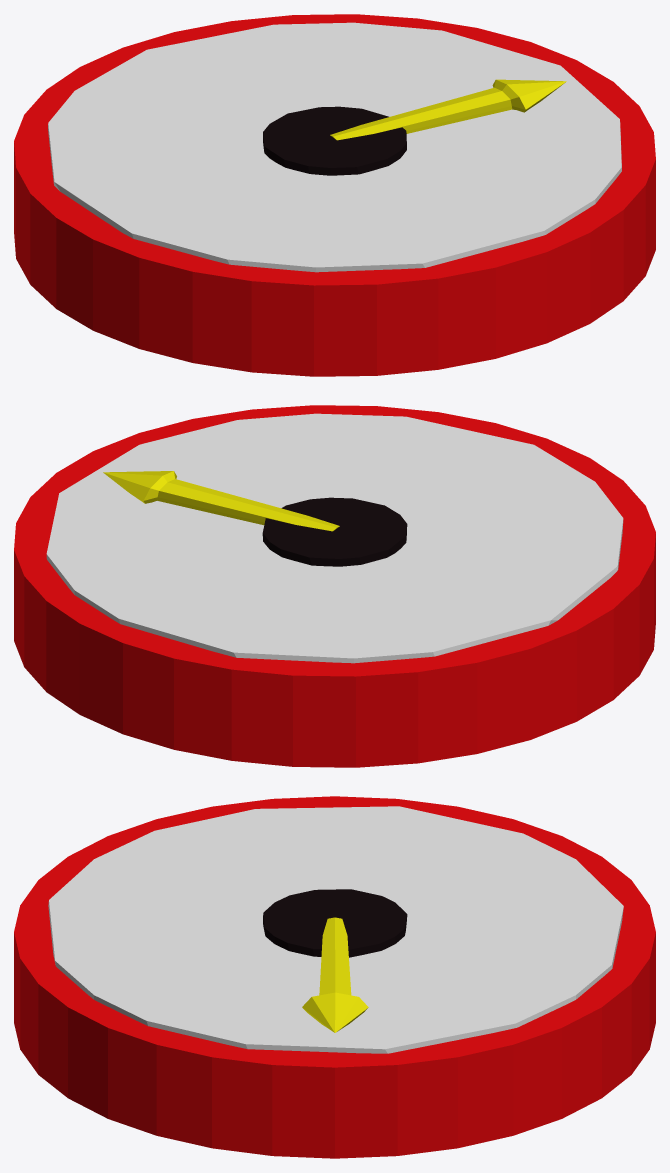
The model's file is spinner.fbx.
3 views of the same model, one above another, from view 1: azimuth 30°, elevation 25°; view 2: azimuth 150°, elevation 25°; view 3: azimuth 270°, elevation 25° (orthographic).
Parts seen in each view (by area): view 1: SpinnerBase.001, Base.001, SpinnerBase, Arrow; view 2: SpinnerBase.001, Base.001, SpinnerBase, Arrow; view 3: SpinnerBase.001, Base.001, SpinnerBase, Arrow.
Boxes of the visible parts, left/top/right/bottom form: SpinnerBase.001: left=48, top=22, right=621, bottom=272; Base.001: left=14, top=14, right=655, bottom=376; SpinnerBase: left=263, top=106, right=406, bottom=175; Arrow: left=330, top=79, right=566, bottom=140; SpinnerBase.001: left=46, top=413, right=623, bottom=663; Base.001: left=14, top=405, right=655, bottom=767; SpinnerBase: left=262, top=497, right=407, bottom=566; Arrow: left=103, top=471, right=339, bottom=531; SpinnerBase.001: left=48, top=806, right=623, bottom=1053; Base.001: left=14, top=796, right=655, bottom=1158; SpinnerBase: left=263, top=889, right=407, bottom=957; Arrow: left=302, top=917, right=368, bottom=1032.
Size of the model in its own units: 72.01 by 14.15 by 72.01.
